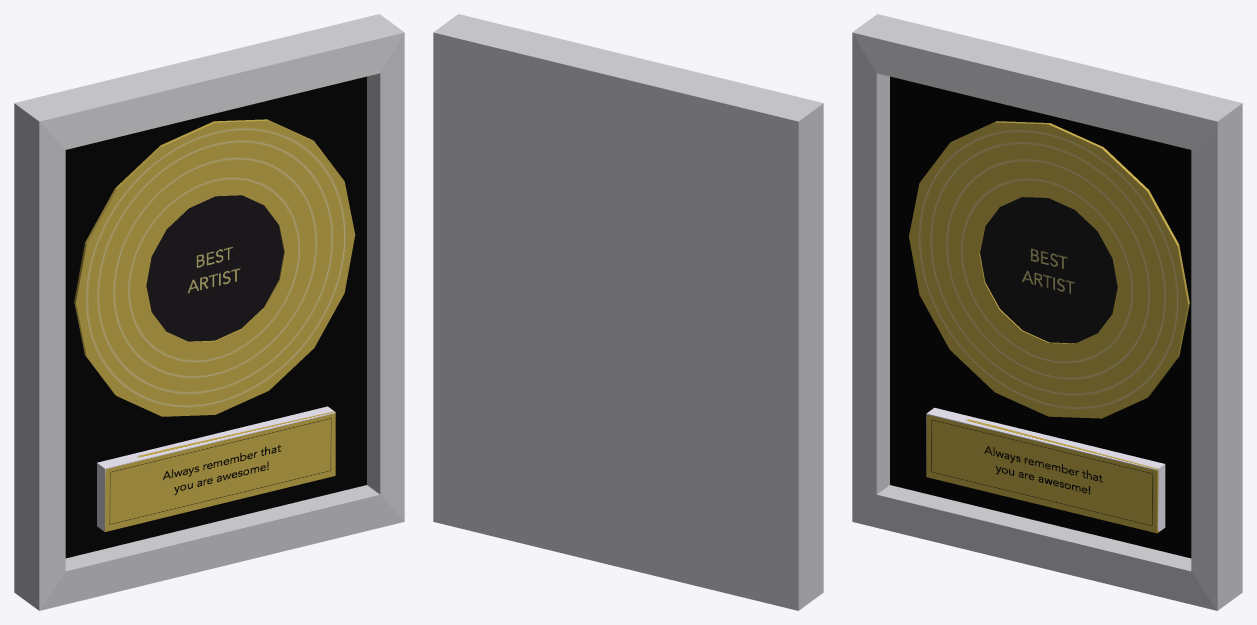
Rendered from GoldDisk.fbx.
The picture shows the model from 3 angles, left to right: view 1: azimuth 30°, elevation 25°; view 2: azimuth 150°, elevation 25°; view 3: azimuth 330°, elevation 25°; orthographic projection.
Visible parts, largest first — view 1: Gold Disk; view 2: Gold Disk; view 3: Gold Disk.
Part boxes in pixels (box(x1,y1,x2,y2)): Gold Disk: box(14, 14, 404, 610); Gold Disk: box(433, 14, 823, 610); Gold Disk: box(852, 14, 1242, 610).
Size of the model in its own units: 47.47 by 60.76 by 5.88.
4 materials, 2 textured.
